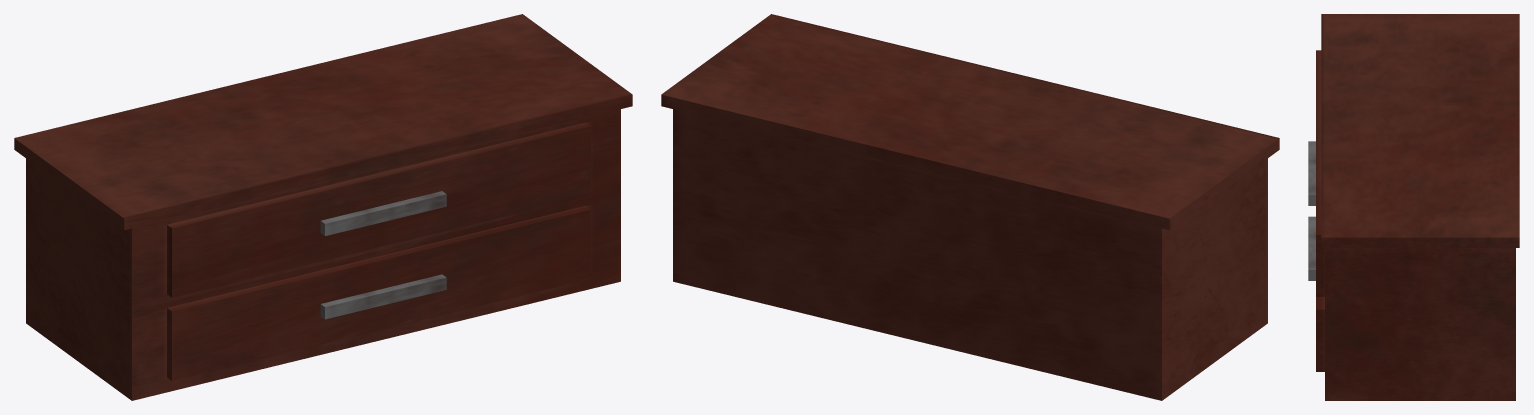
Rendered from gaveteiro.glb.
The picture shows the model from 3 angles, left to right: view 1: azimuth 30°, elevation 25°; view 2: azimuth 150°, elevation 25°; view 3: azimuth 270°, elevation 25°; orthographic projection. The views are drawn at different scales.
Visible parts, largest first — view 1: Cube.018; view 2: Cube.018; view 3: Cube.018.
Part boxes in pixels (x1=…): Cube.018: x1=14, y1=14, x2=632, y2=400; Cube.018: x1=661, y1=14, x2=1279, y2=400; Cube.018: x1=1308, y1=14, x2=1519, y2=400.
Bounding box in the file's own units: 2 × 0.7 × 0.8.
1 material, 1 textured.
